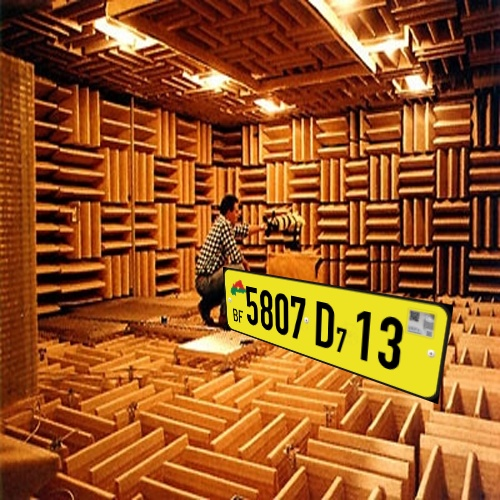plate: (215, 256, 468, 423)
